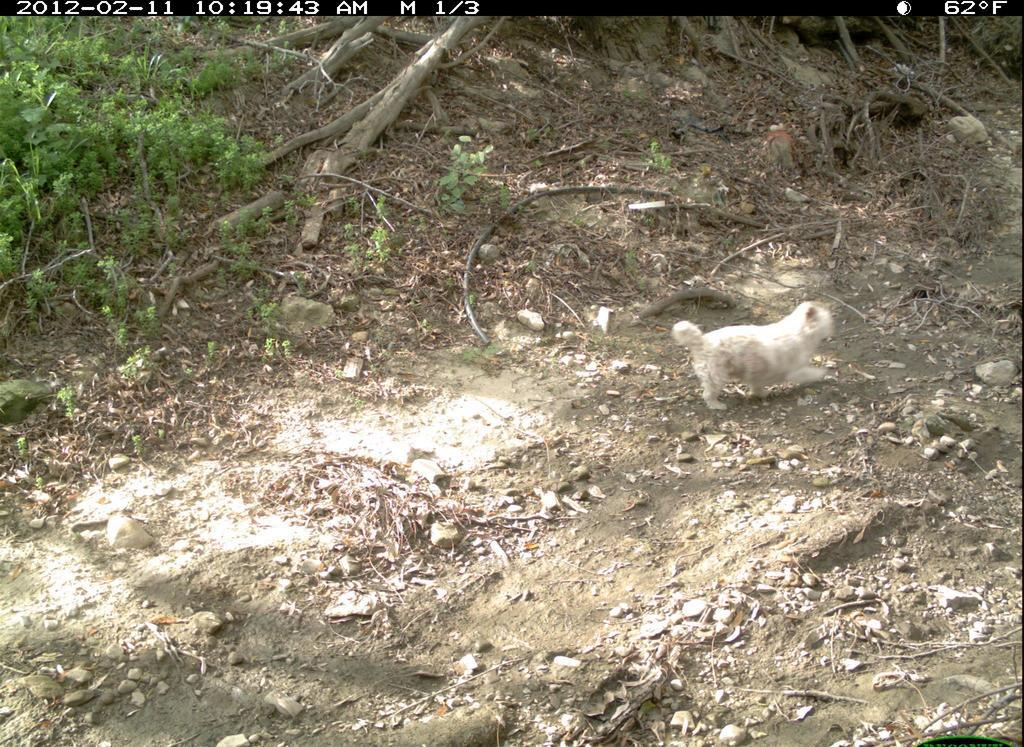dog: (667, 296, 844, 413)
